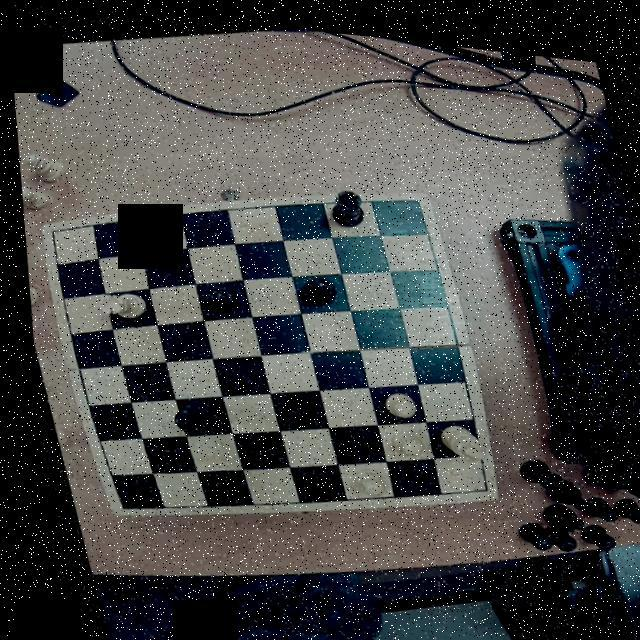chess-table-corners: (396, 183, 426, 210), (98, 495, 130, 517), (462, 466, 489, 492), (34, 223, 60, 247)
